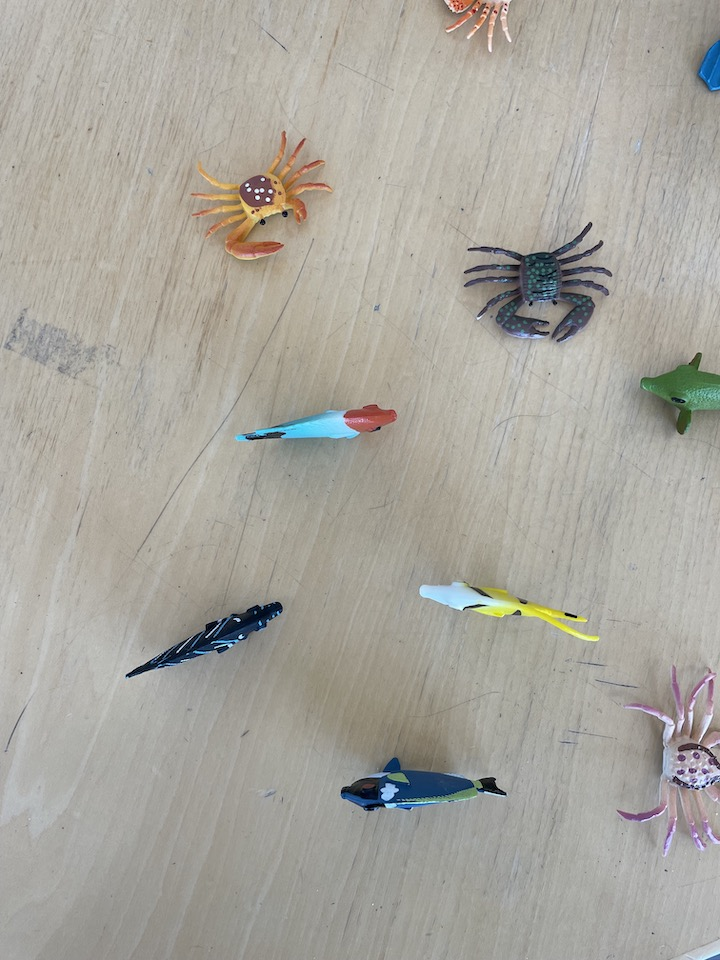crab: (615, 661, 720, 857), (190, 130, 333, 262), (464, 220, 616, 342), (436, 1, 517, 54)
danger: (417, 580, 605, 645)
diver: (695, 37, 720, 94)
fish: (125, 600, 287, 679), (341, 756, 508, 818), (635, 352, 720, 438), (234, 401, 399, 444)
